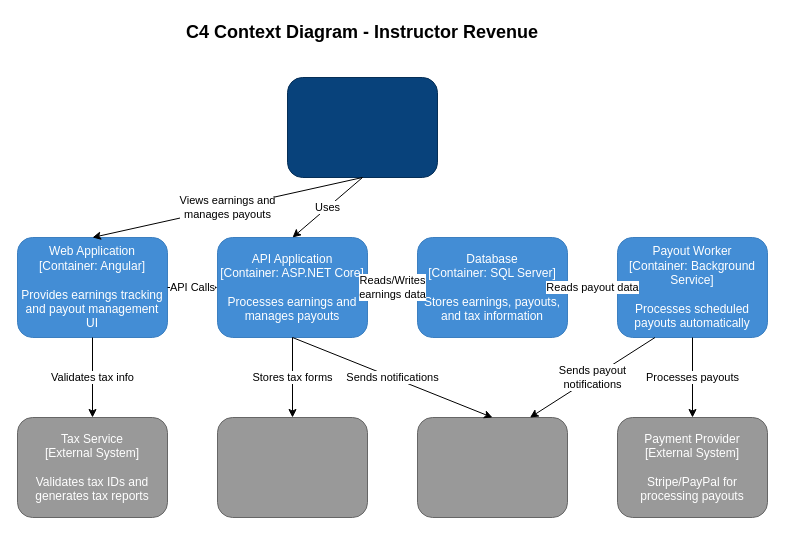
Image size: 785x535. Some labels were removed from this diagram. The shapes that lost their labels are listed below. From the top down, each one's box as (x1, y1, x2, y2) in pixels, then its label:
(286, 76, 438, 178): Instructor [Person] A course instructor who earns revenue from sales
(216, 416, 368, 518): File Storage [External System] Stores tax forms and reports securely
(416, 416, 568, 518): Email Service [External System] Sends payout and tax notifications
